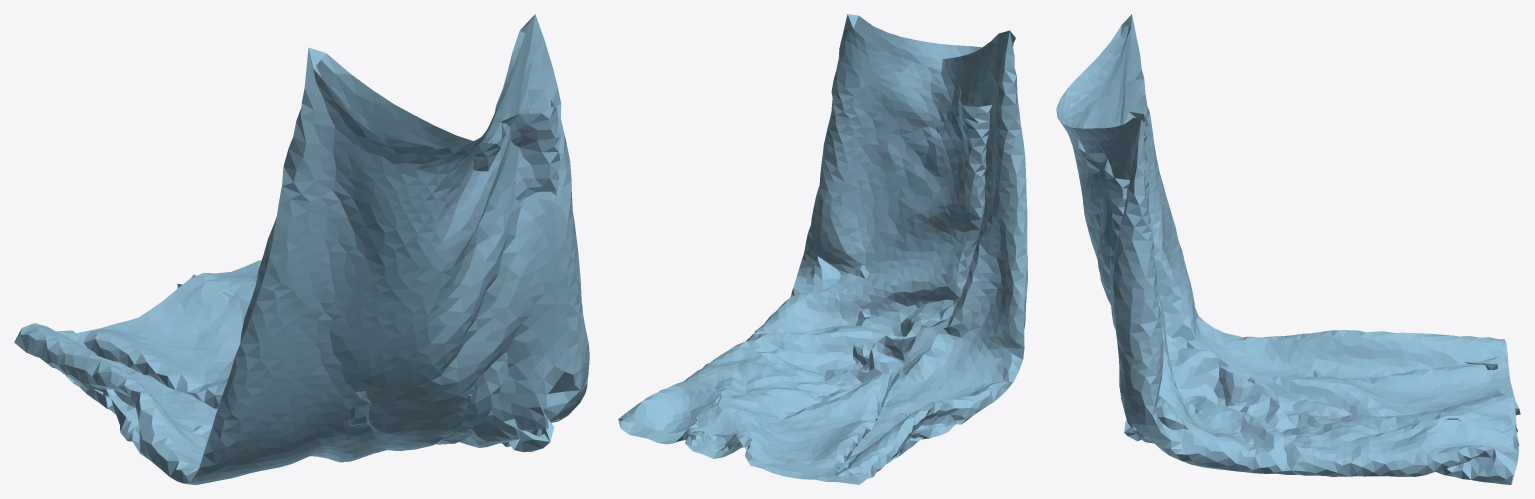
Rendered from frame_09.glb.
3 views of the same model, side by side, from view 1: azimuth 30°, elevation 25°; view 2: azimuth 150°, elevation 25°; view 3: azimuth 270°, elevation 25° (orthographic). The views are drawn at different scales.
Parts seen in each view (by area): view 1: frame_09.obj; view 2: frame_09.obj; view 3: frame_09.obj.
Boxes of the visible parts, x1,y1,x2,y2 form: frame_09.obj: [14, 14, 589, 484]; frame_09.obj: [618, 14, 1027, 484]; frame_09.obj: [1056, 14, 1520, 484].
Size of the model in its own units: 0.8914 by 1.08 by 1.25.
